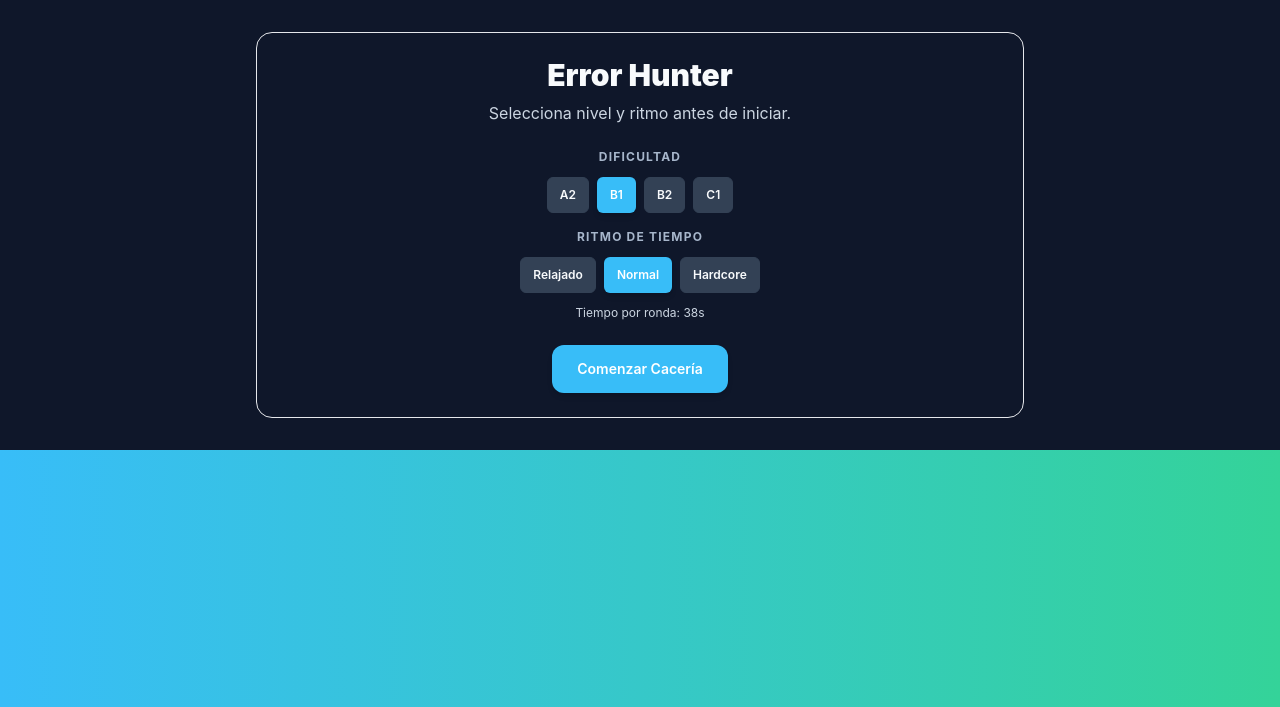
Test case: ErrorHunterView › switches to C1 level and updates timer
The image size is (1280, 707).
Click the button "Comenzar Cacería": coordinates (640, 369) [552, 345, 728, 393]
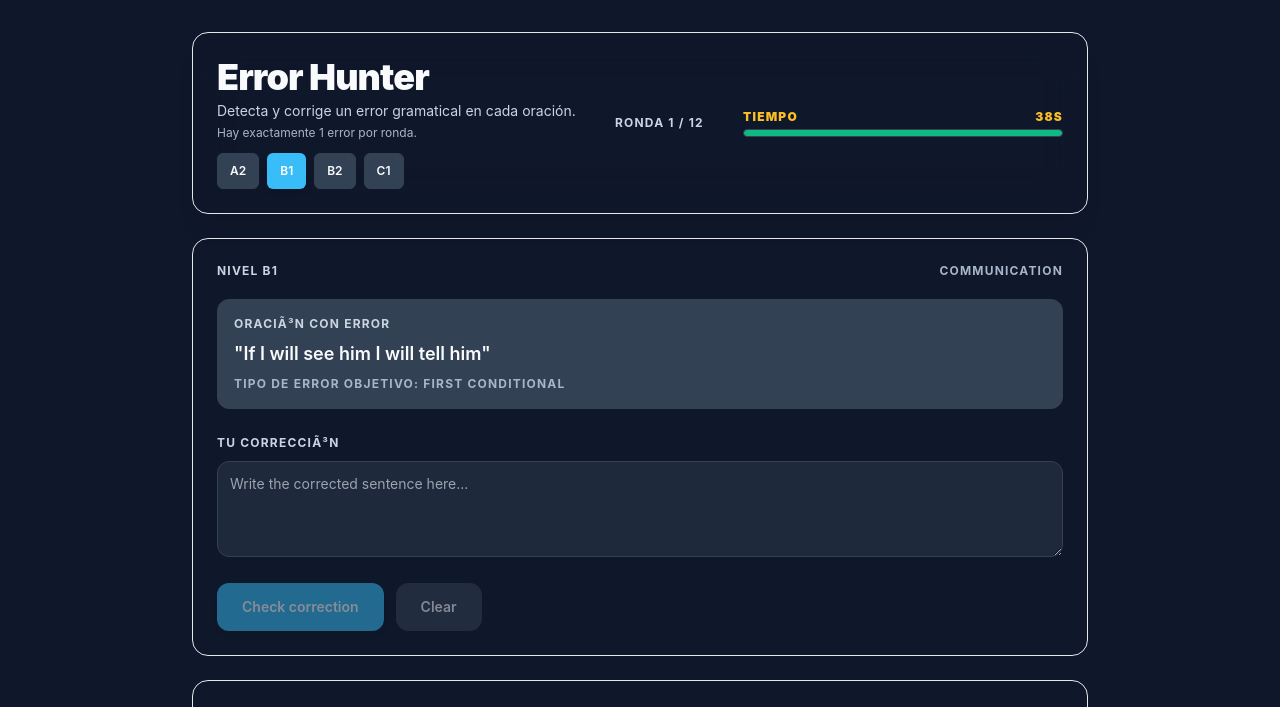
Click the button named "Set error hunter level C1": coordinates (384, 171) [364, 153, 404, 189]
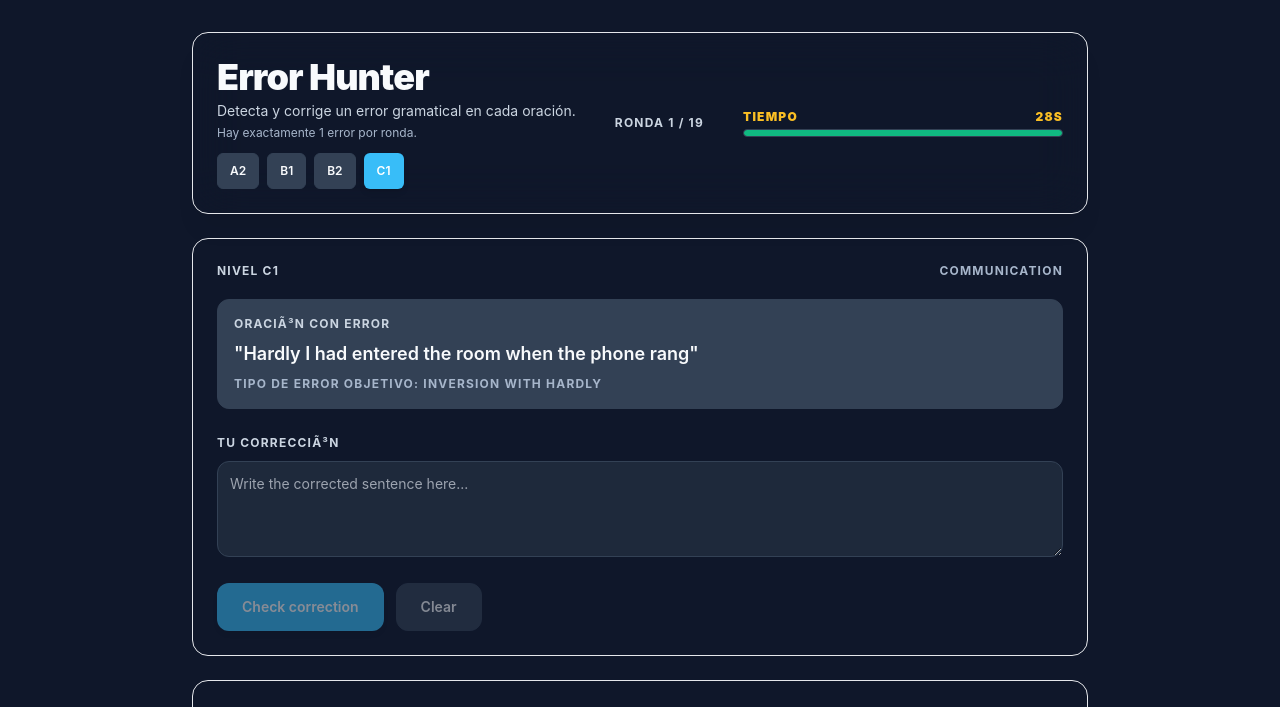
Result: the text "28s" is shown at [1036, 109, 1063, 125]
